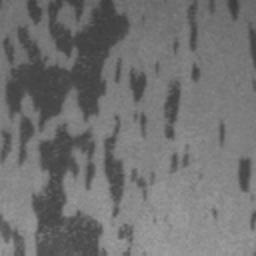Red iron sheet: (0, 0, 201, 256), (173, 0, 256, 69), (238, 158, 251, 191), (172, 154, 188, 170), (220, 124, 225, 142), (251, 212, 256, 225), (252, 80, 256, 91), (0, 0, 4, 10)
